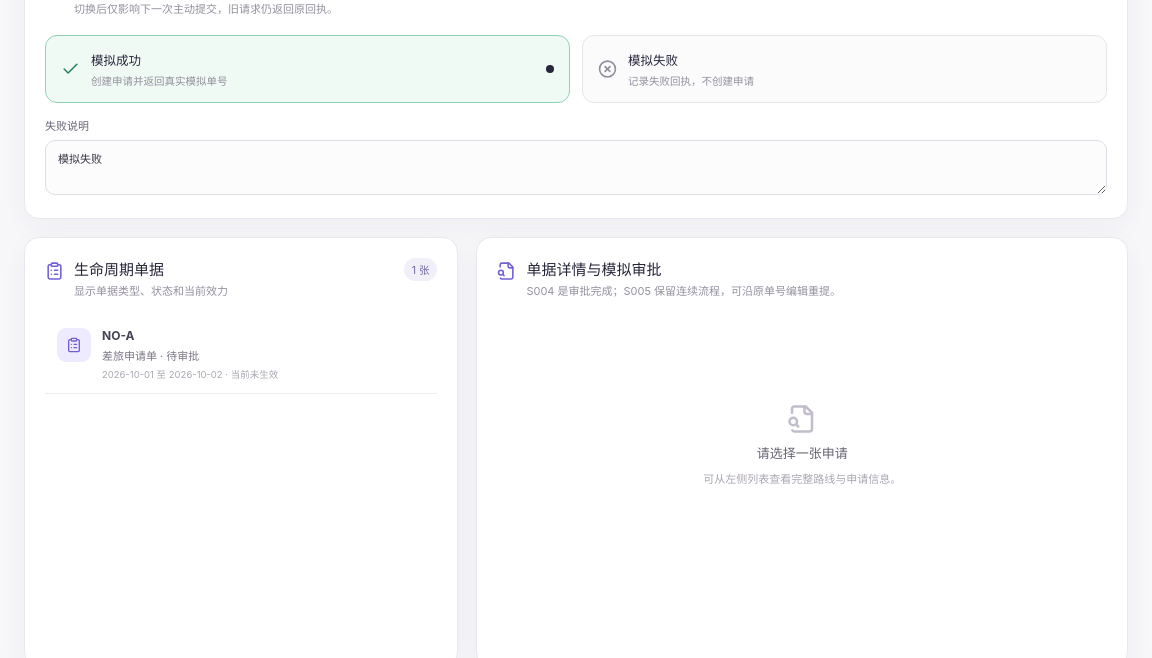
Test case: 模拟申请详情 › 审批动作只在模拟控制台按状态显示，使用当前 expectedVersion 并可非破坏性添加样例
(page scrolled)
What coordinates should you click on to do the following:
click the button "NO-A 差旅申请单 · 待审批 2026-10-01 至 2026-10-02 · 当前未生效"
I would click on:
 (74, 345)
Its box is [45, 316, 437, 394].
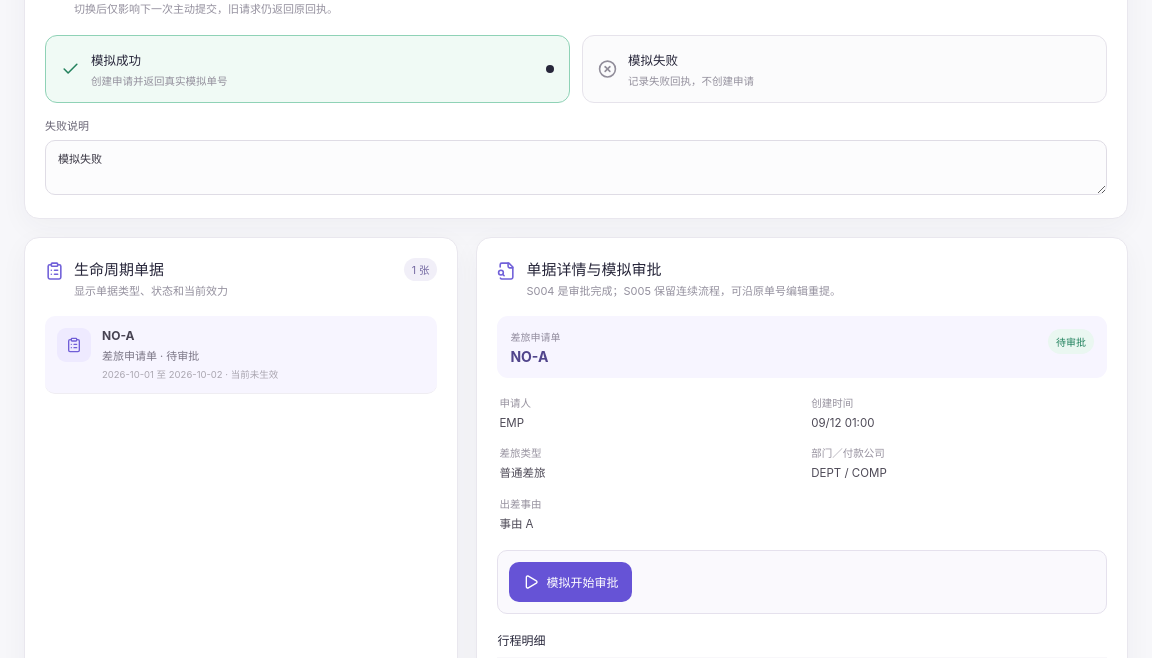
What coordinates should you click on to do the following:
click the button "模拟开始审批"
I would click on:
 (571, 582)
Its box is [509, 562, 632, 602].
(page scrolled)
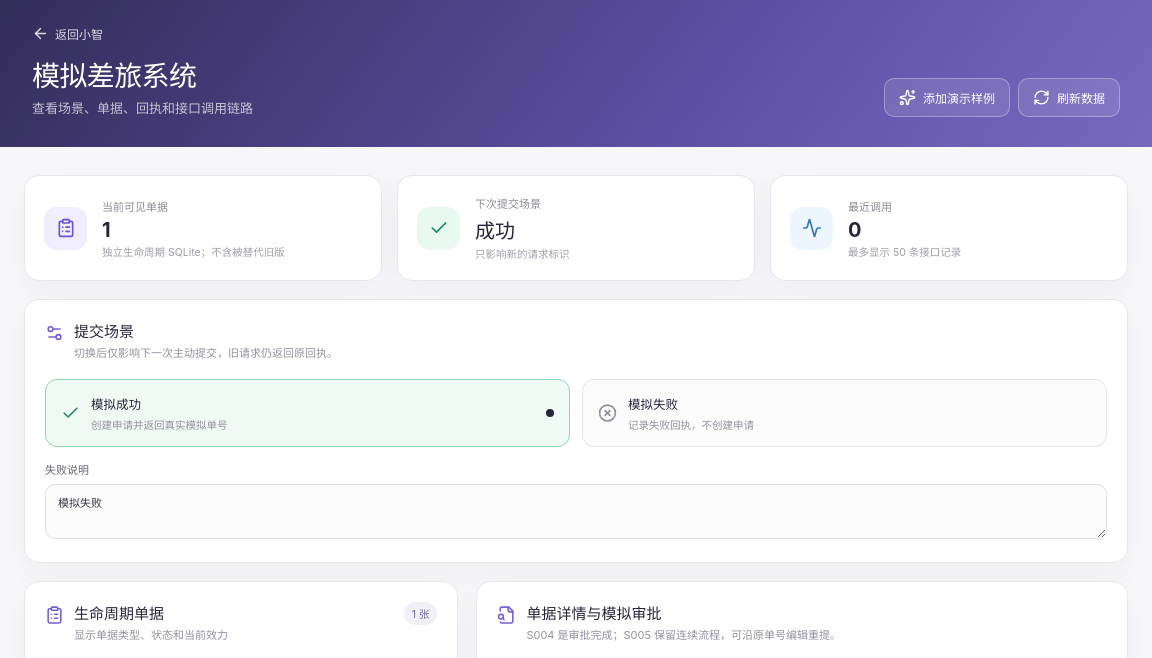
Expected: the text "S004 是审批完成；S005 保留连续流程，可沿原单号编辑重提。" is shown, [526, 626, 841, 643]
What coordinates should you click on to do the following:
click the button "添加演示样例"
I would click on:
 (947, 98)
Its box is [884, 78, 1010, 117].
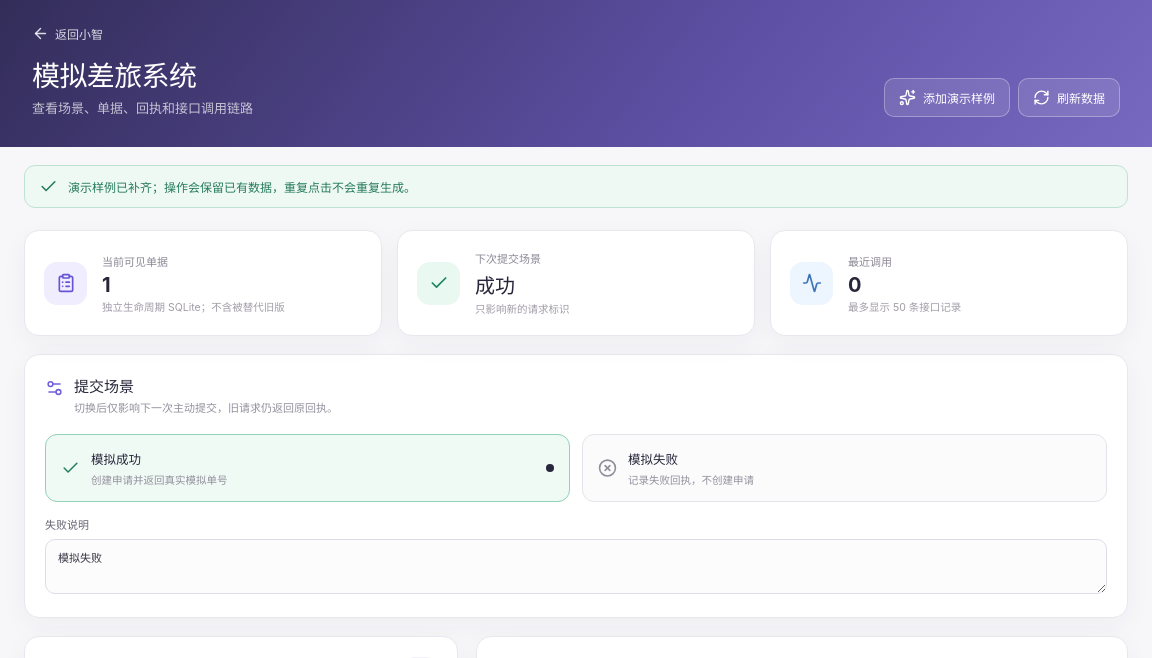
Expected: the text "演示样例已补齐；操作会保留已有数据，重复点击不会重复生成。" is shown, [68, 178, 416, 195]
